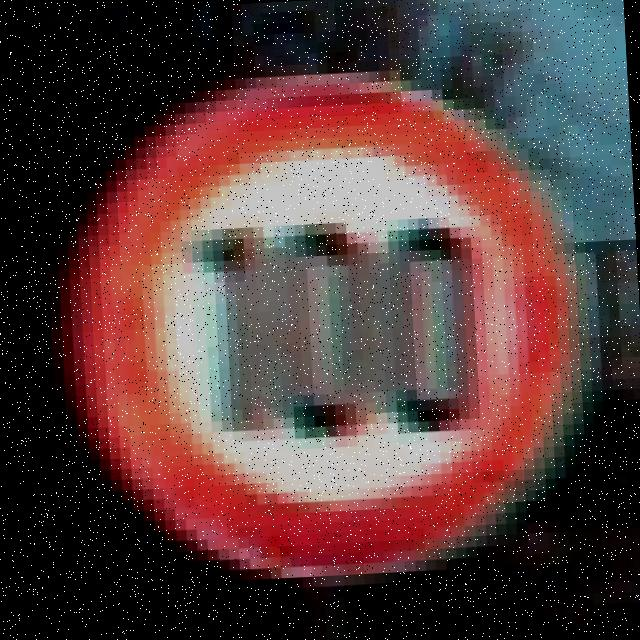Ograniczenie predkosci do 100: (79, 71, 576, 588)
